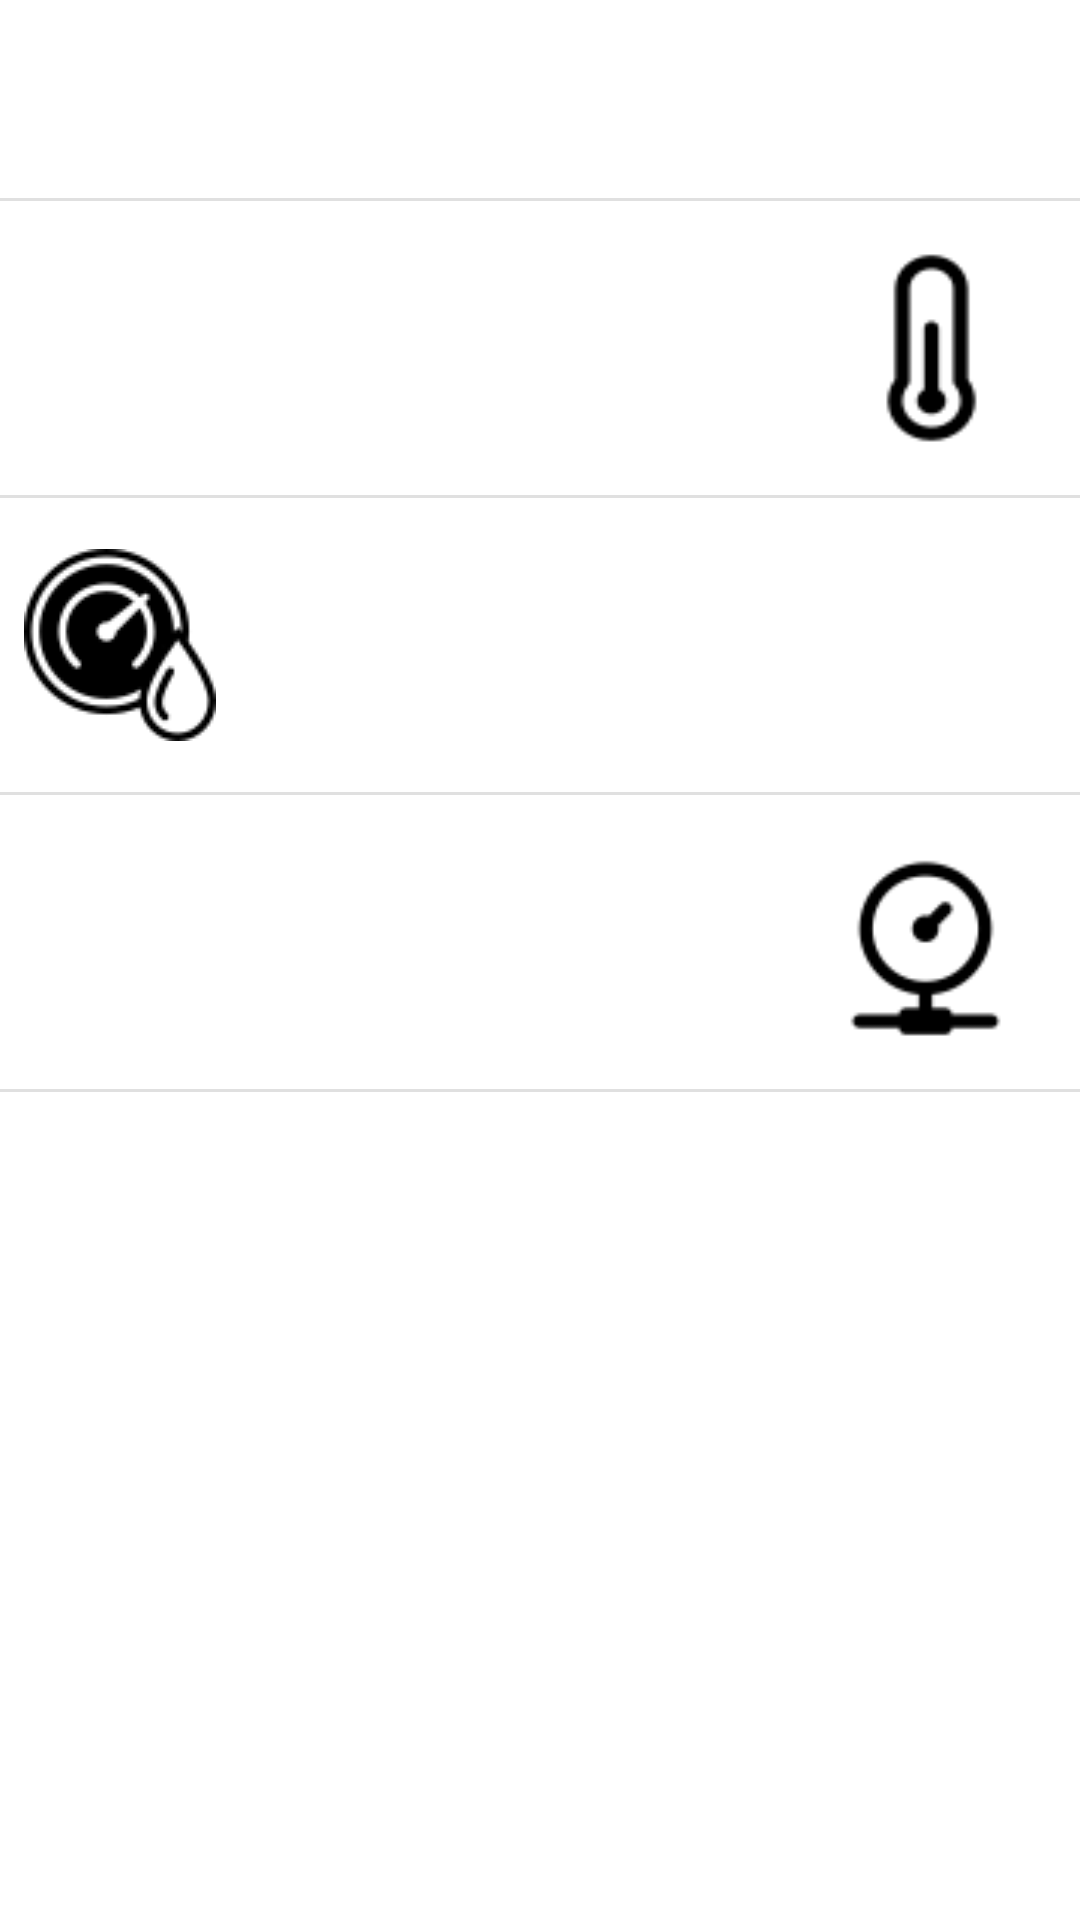

Icon bounding boxes for this 1080×1920 phone screenshot, format (x1=x1, y1=y1, x2=x2, y2=y2):
Hygrometer: (x1=24, y1=549, x2=216, y2=741)
